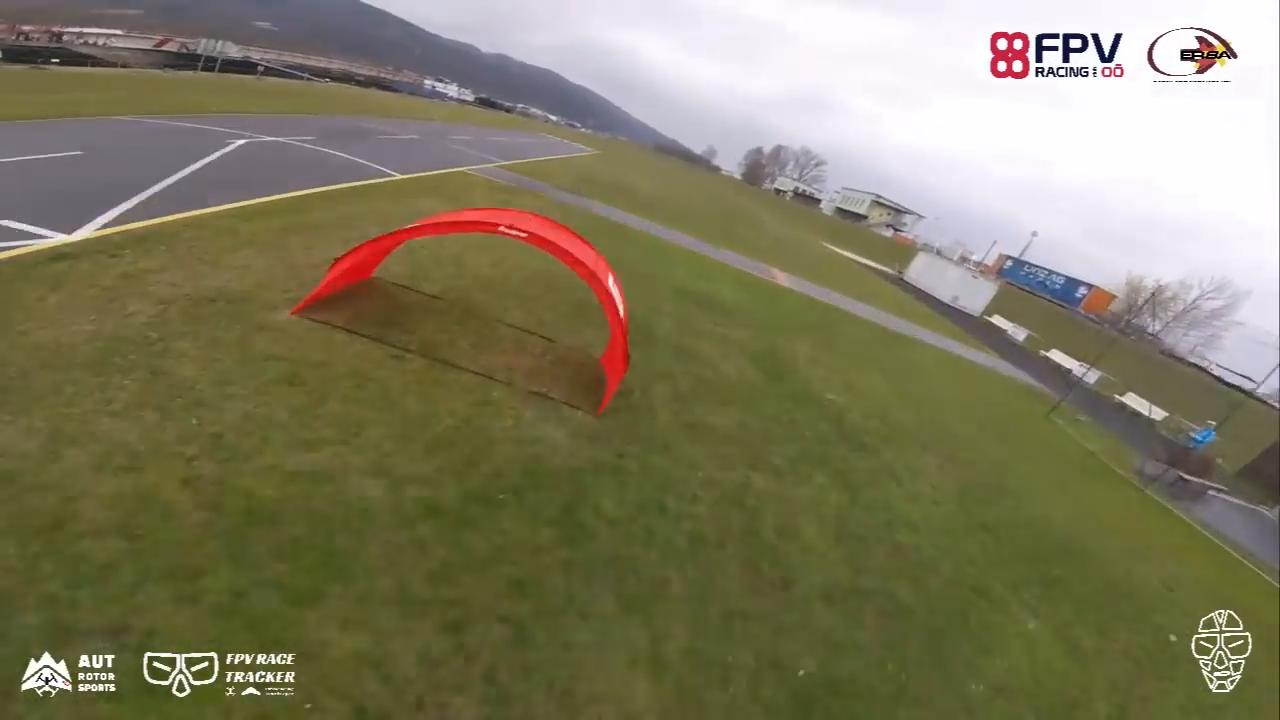gate: (285, 210, 638, 415)
